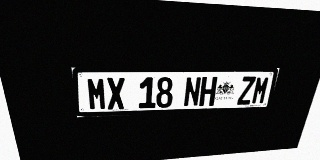1: (139, 77, 156, 108)
8: (156, 77, 174, 108)
H: (199, 77, 218, 106)
M: (86, 77, 107, 110), (251, 76, 270, 104)
N: (183, 77, 202, 107)
X: (106, 77, 125, 110)
Z: (237, 76, 256, 105)
